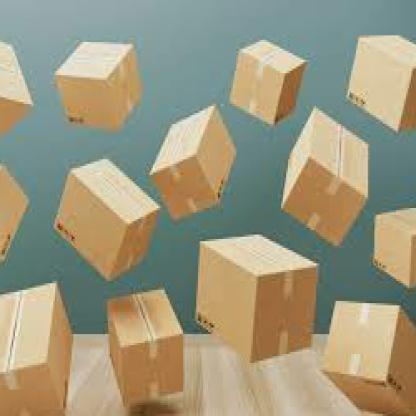box: (196, 232, 318, 381), (52, 159, 162, 288), (281, 100, 373, 251), (323, 294, 415, 414), (0, 281, 80, 414), (105, 288, 190, 412), (153, 102, 238, 221), (52, 38, 152, 136), (345, 27, 415, 140), (230, 38, 307, 131), (370, 204, 415, 297), (0, 36, 37, 142), (0, 157, 32, 268)
